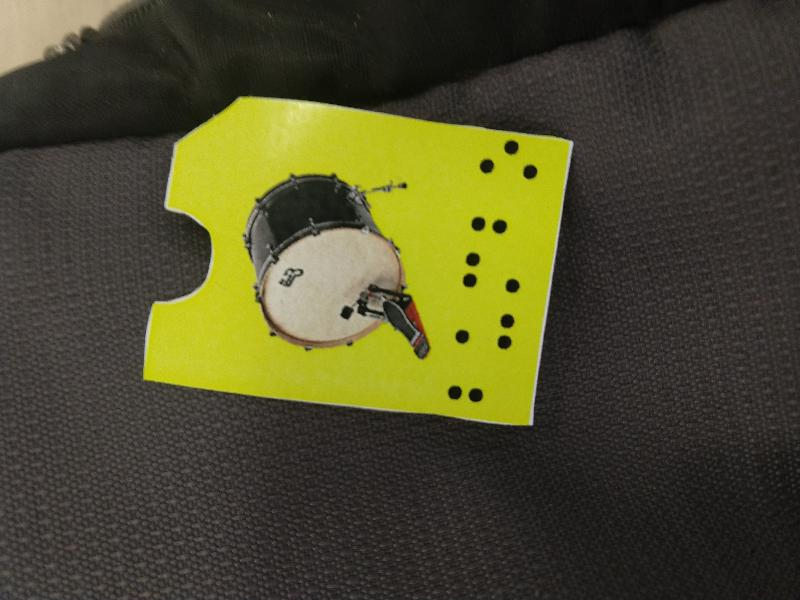bumbo: (128, 85, 574, 434)
